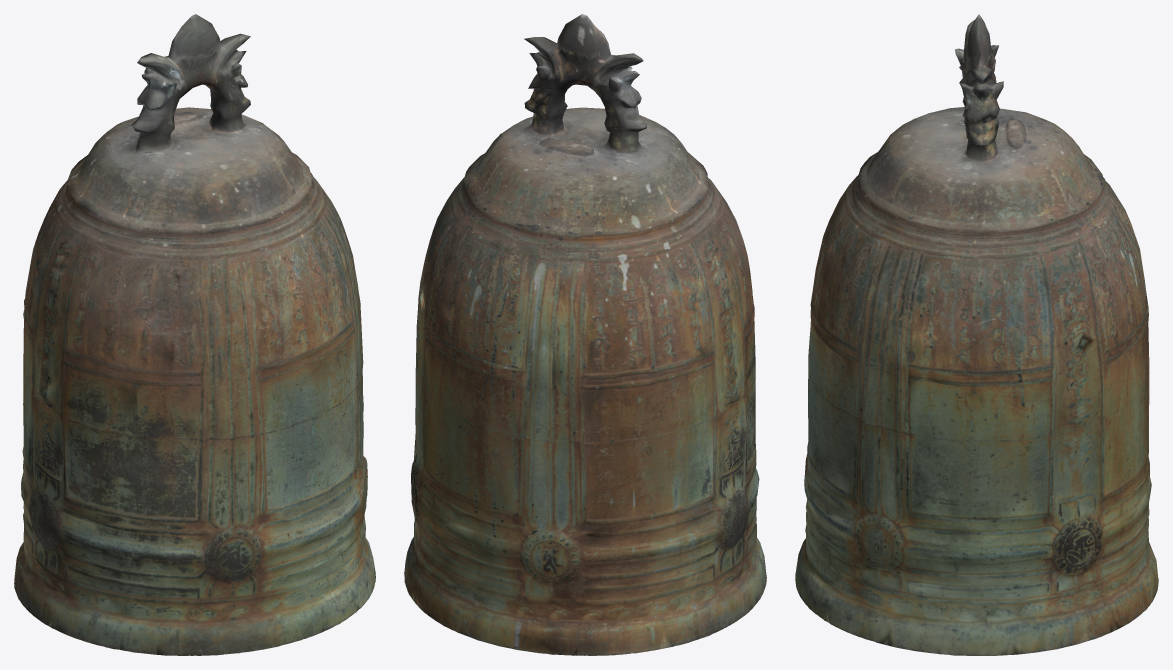
The model's file is temple_bell.glb.
3 renders of one model, left to right at view 1: azimuth 30°, elevation 25°; view 2: azimuth 150°, elevation 25°; view 3: azimuth 270°, elevation 25°, orthographic.
Parts seen in each view (by area): view 1: Model_material0_0; view 2: Model_material0_0; view 3: Model_material0_0.
Part boxes in pixels (x1=…): Model_material0_0: x1=14, y1=14, x2=375, y2=655; Model_material0_0: x1=404, y1=14, x2=766, y2=655; Model_material0_0: x1=795, y1=14, x2=1158, y2=655.
Bounding box in the file's own units: 3.15 × 5.44 × 3.15.
1 material, 1 textured.
